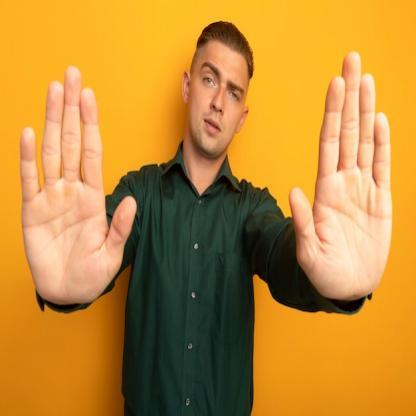stop: (17, 64, 139, 310), (286, 49, 394, 302)
